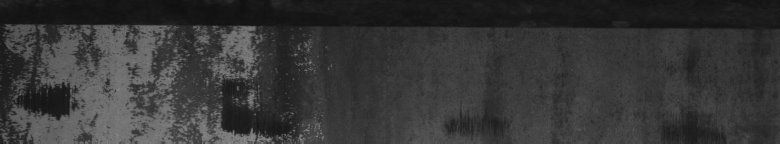kb: (20, 20, 332, 136)
